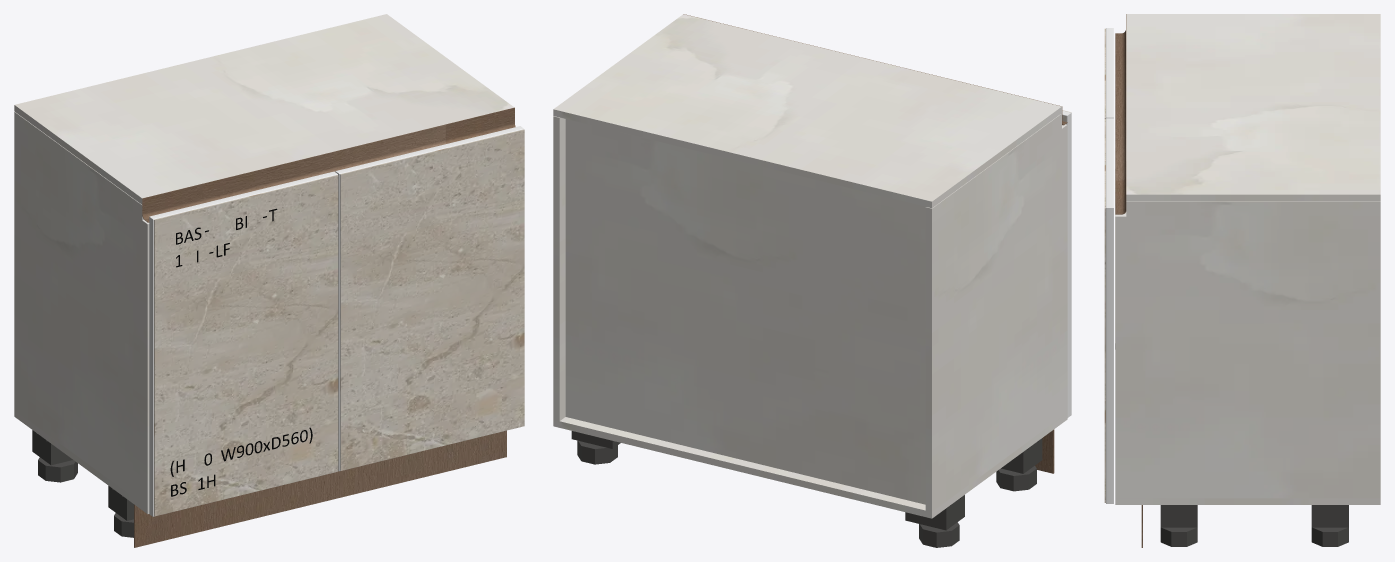
The picture shows the model from 3 angles, left to right: view 1: azimuth 30°, elevation 25°; view 2: azimuth 150°, elevation 25°; view 3: azimuth 270°, elevation 25°; orthographic projection. The views are drawn at different scales.
Size of what is drawn, in the model's own units: 0.9 by 0.82 by 0.5899.
6 materials, 3 textured.
